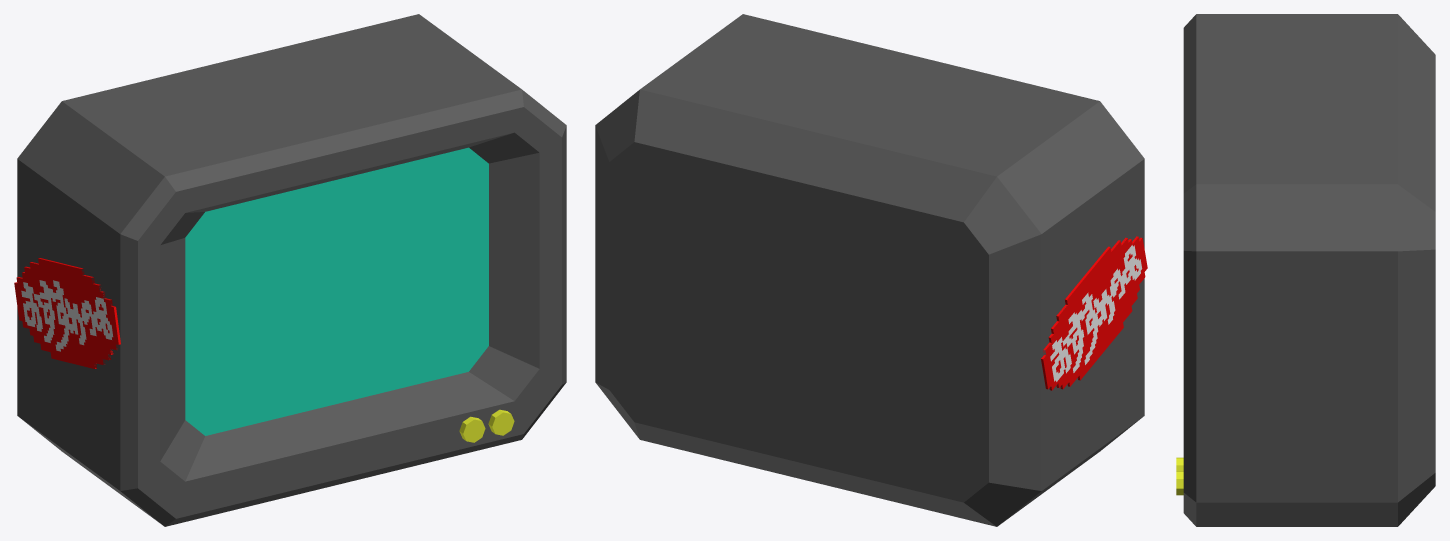
The model's file is monitor.glb.
3 views of the same model, side by side, from view 1: azimuth 30°, elevation 25°; view 2: azimuth 150°, elevation 25°; view 3: azimuth 270°, elevation 25° (orthographic). The views are drawn at different scales.
Visible parts, largest first — view 1: monitor; view 2: monitor; view 3: monitor.
Boxes of the visible parts, box(x1,y1,x2,y2) form: monitor: box(14, 14, 566, 526); monitor: box(595, 14, 1147, 526); monitor: box(1176, 14, 1435, 526).
Bounding box in the file's own units: 2.01 × 1.5 × 1.03.
4 materials, 1 textured.
